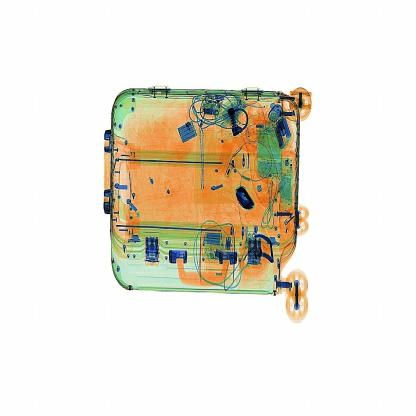scissors: (233, 183, 257, 215)
